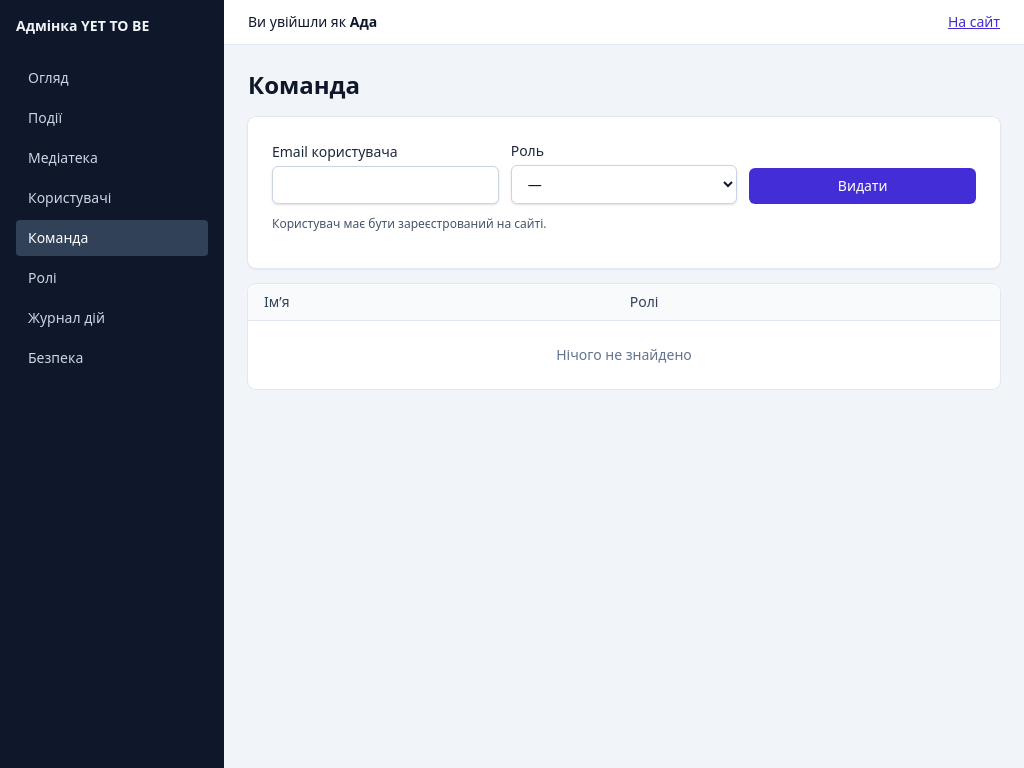
Test: команда › некоректний email не відправляється
The image size is (1024, 768).
Type "not-an-email" into the field labelled "Email користувача" at [385, 185], box [272,166,499,204]
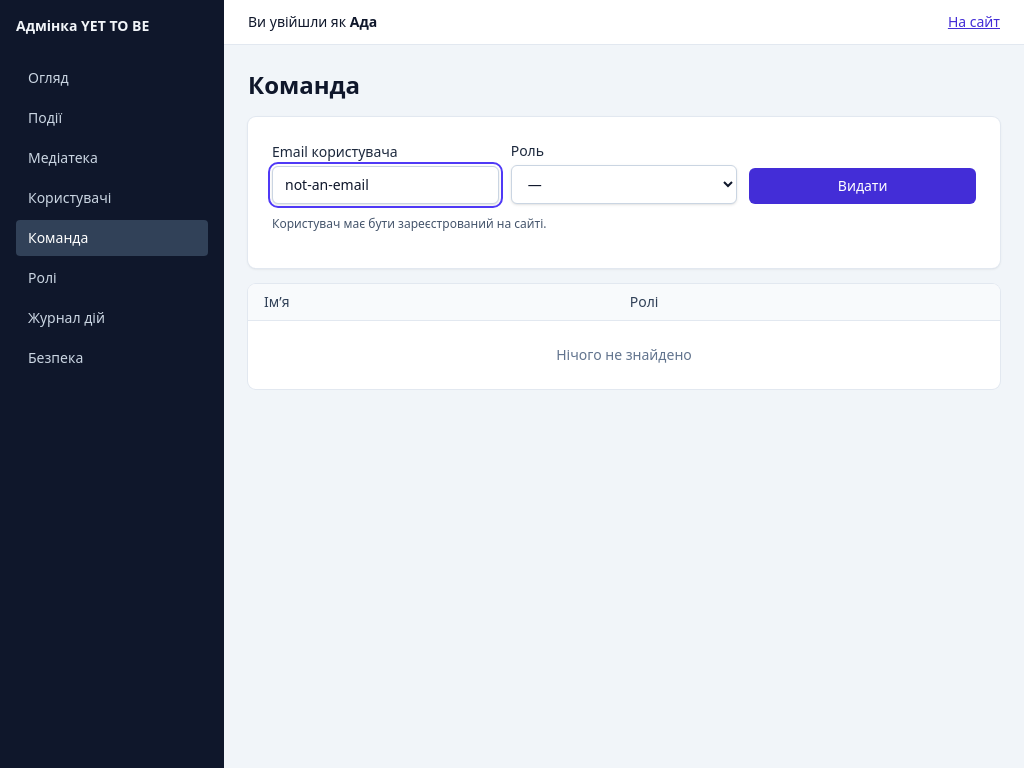
Click the button "Видати" at [863, 186], box [749,168,976,204]
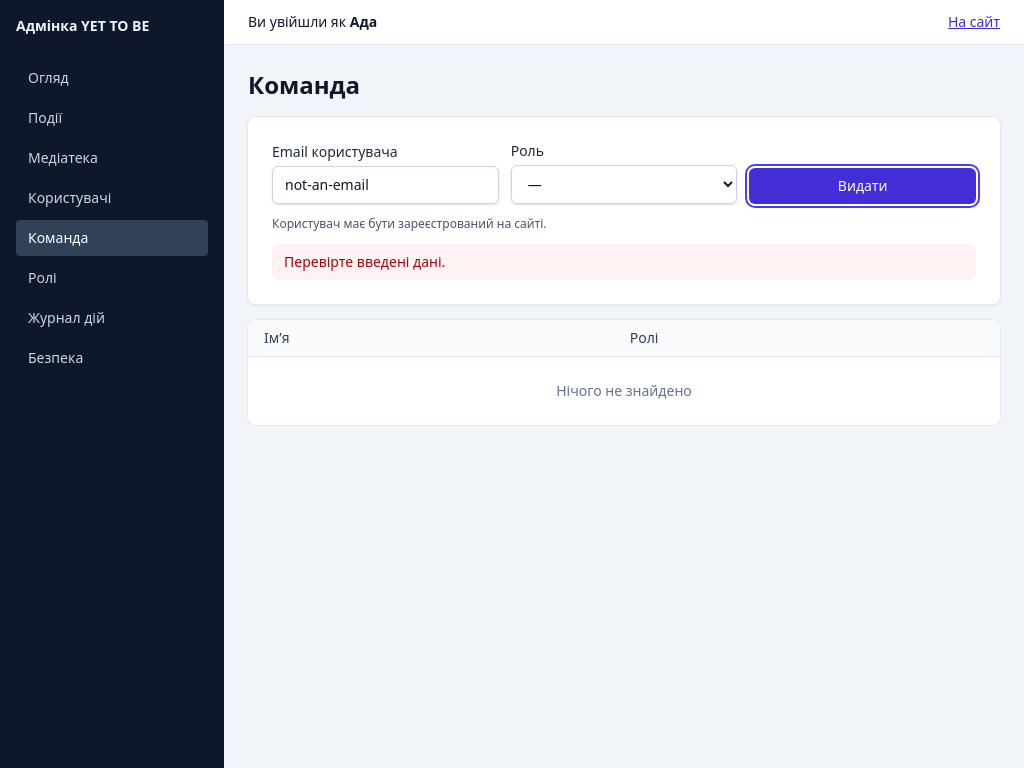
Check: the message "Перевірте введені дані." is shown, box [272,244,976,280]
